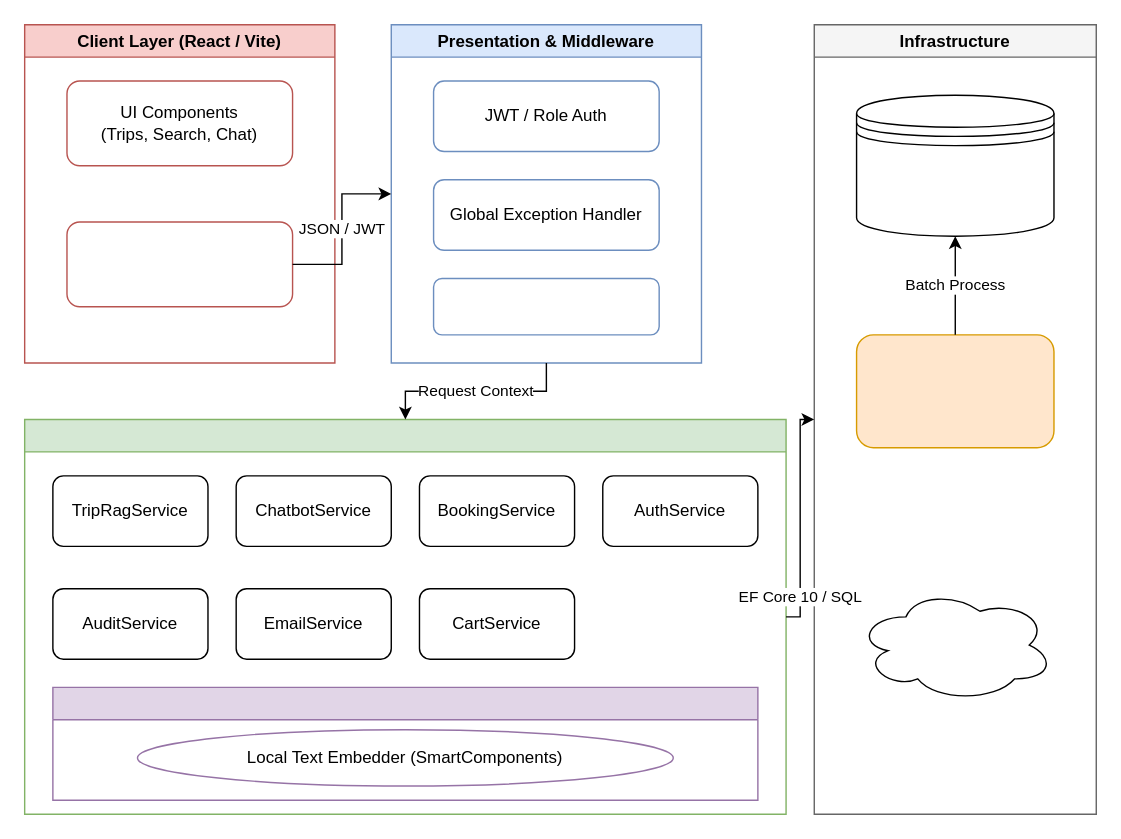
Image size: 1121x839. Some labels were removed from this diagram. The shapes that lost their labels are listed below. From the top down, each one's box as (x1, y1, x2, y2) in pixels, then its label:
(855, 94, 1054, 236): PostgreSQL + pgvector
(66, 221, 293, 307): HTTP Interceptors (Auth / Logging)
(432, 277, 659, 335): CORS / Static Files
(855, 333, 1054, 448): TravelTrip.Worker (Background Service)
(23, 418, 786, 814): Application Services
(855, 587, 1054, 701): SMTP Server (Gmail)
(51, 686, 758, 800): Local AI Core
